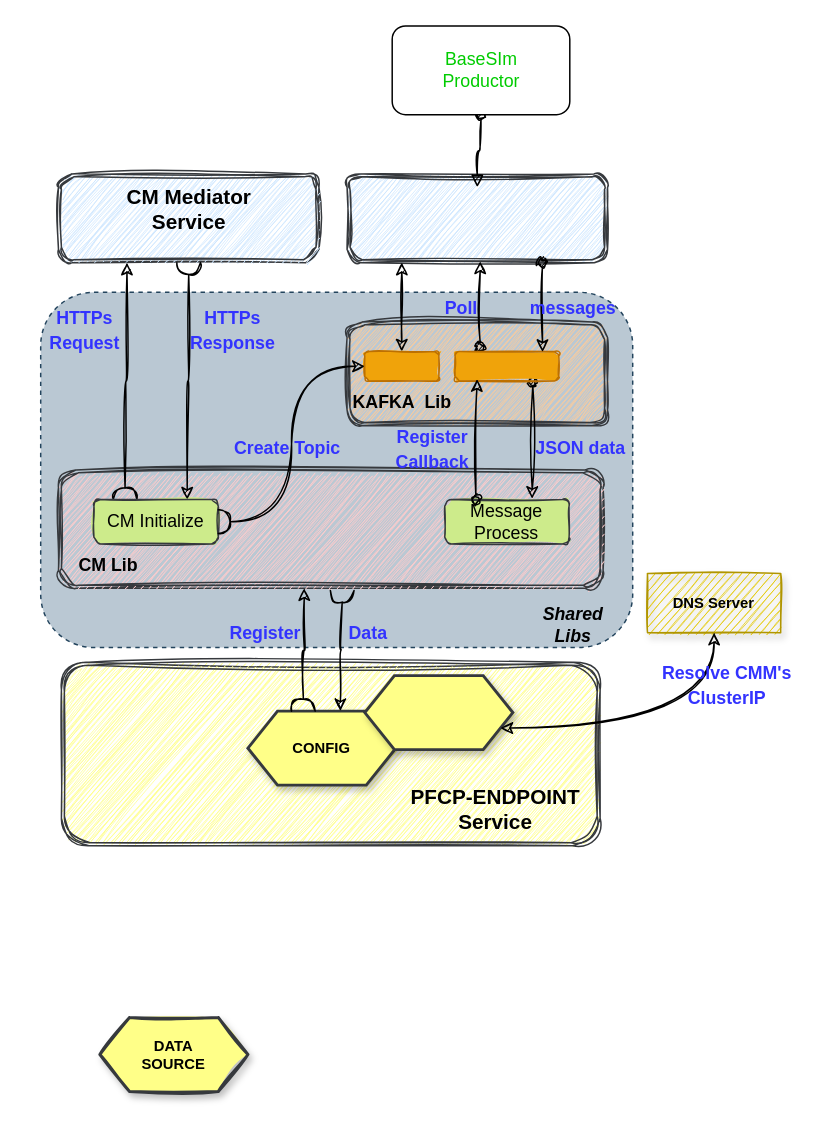
Image size: 832x1129. Some labels were removed from this diagram. The centre of each missing label's shape, as x and y in pixels:
"Consumer" goes at pixel 506 365.
"KAFKA Service" goes at pixel 477 217.
"RESOLVER ( Done )" goes at pixel 439 714.
"Topic" goes at pixel 401 365.
